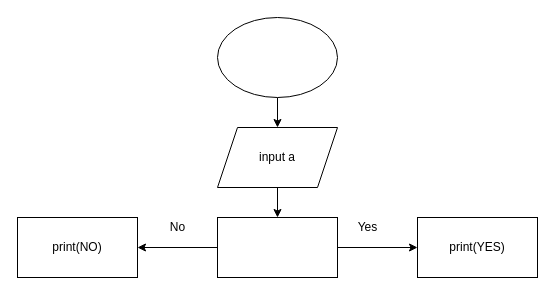
Image size: 555x295. Some labels were removed from this diagram. Here are the shapes that lost their labels. From the top down, the centre of each, then its label:
point 277,57: START
point 277,247: a % 2 ==0
